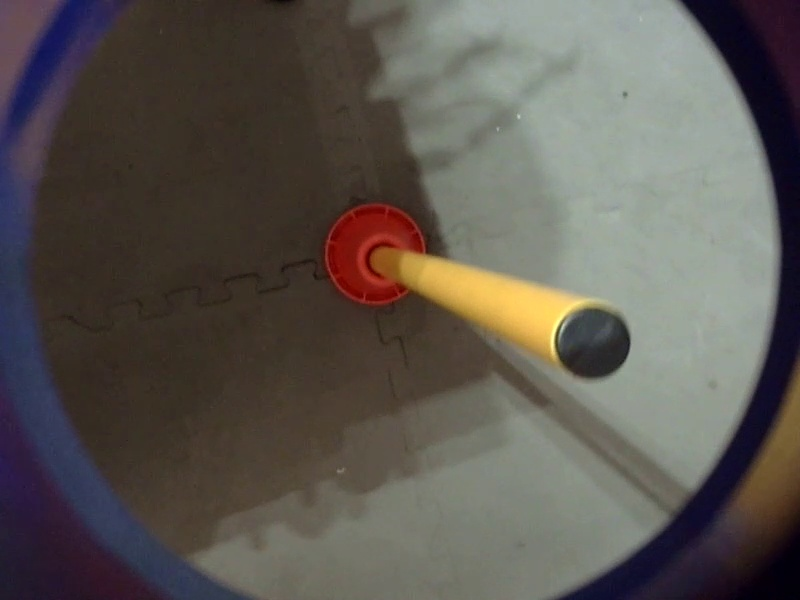tip: (542, 285, 637, 382)
